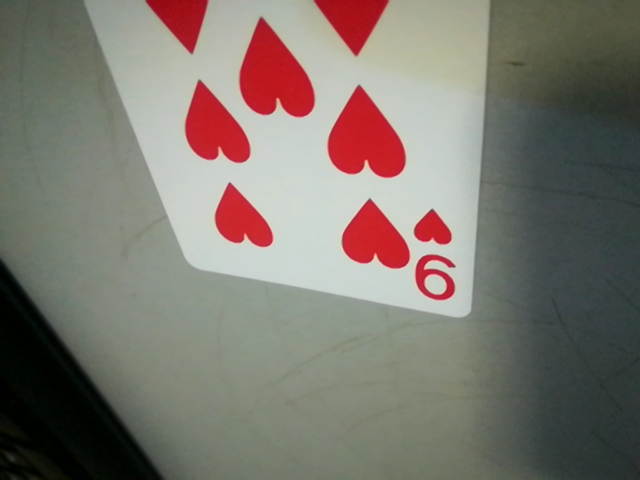hx 9: (405, 204, 472, 310)
